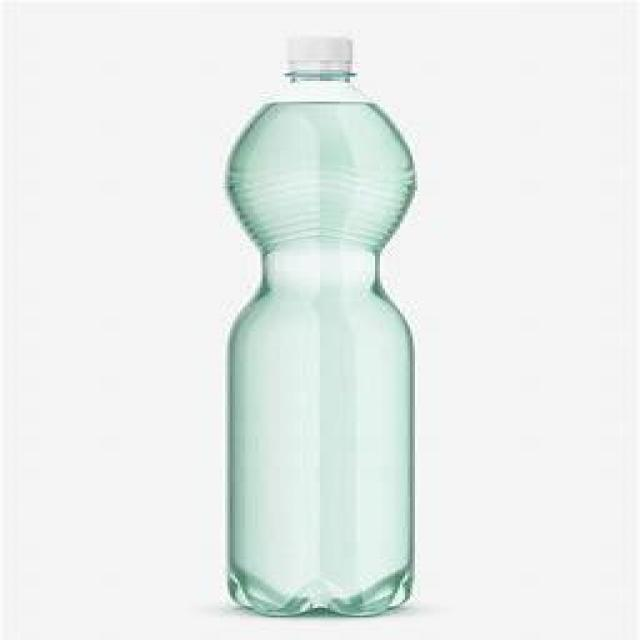bottle: (197, 26, 421, 629)
